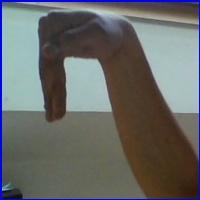A: (33, 5, 136, 128)
